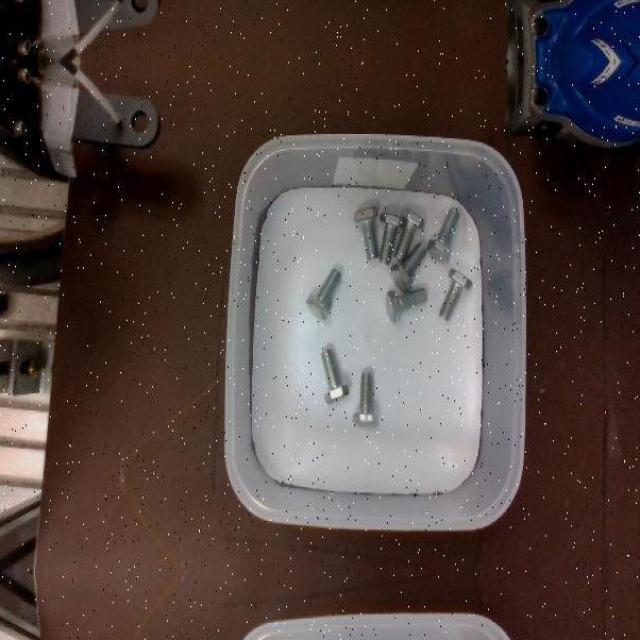screw: (390, 242, 428, 292), (305, 267, 341, 319), (438, 267, 473, 320), (428, 207, 460, 263), (394, 210, 426, 263), (321, 349, 350, 404), (386, 288, 427, 324), (378, 212, 404, 264), (352, 372, 377, 426), (354, 206, 378, 260)
